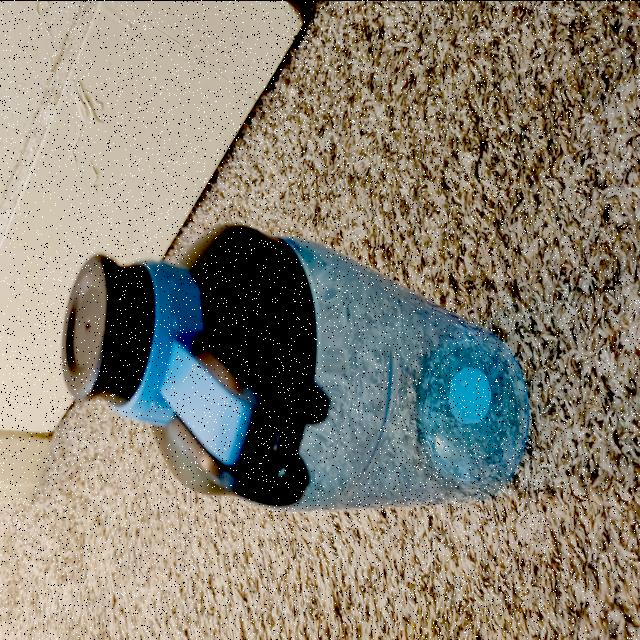bottle: (97, 235, 530, 506)
